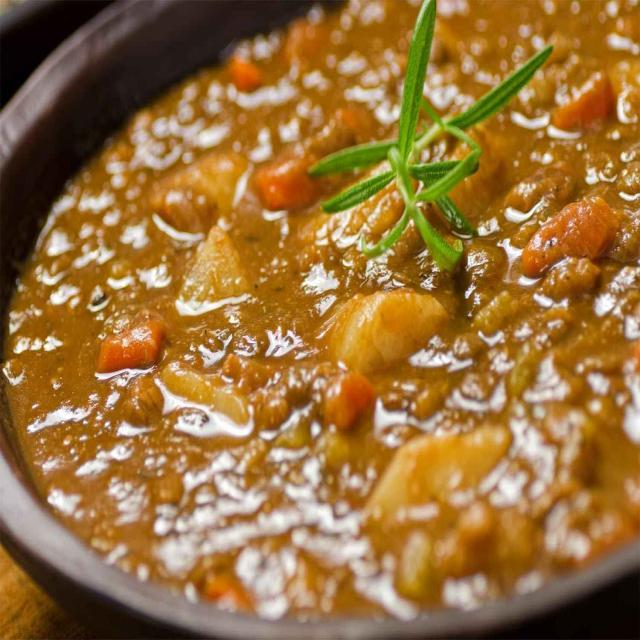lentejas: (11, 14, 634, 621)
